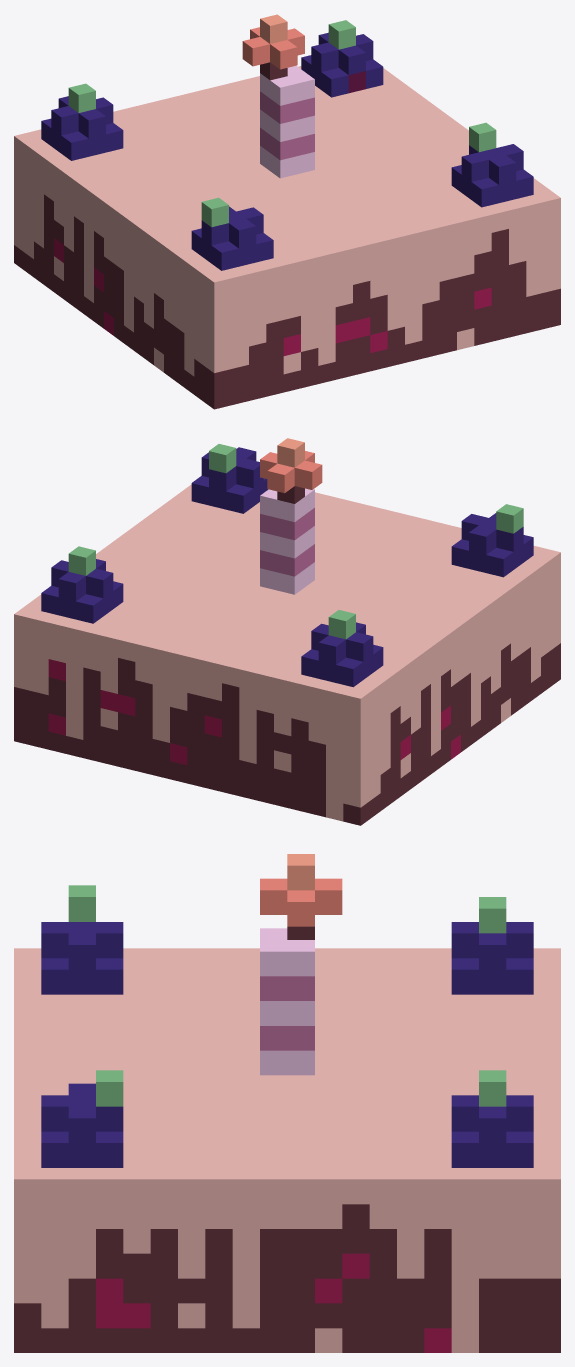
File: cake.glb
The picture shows the model from 3 angles, top to bottom: view 1: azimuth 30°, elevation 25°; view 2: azimuth 150°, elevation 25°; view 3: azimuth 270°, elevation 25°; orthographic projection. The views are drawn at different scales.
Visible parts, largest first — view 1: cake1; view 2: cake1; view 3: cake1.
Boxes of the visible parts, <box> form: cake1: <box>14,14,560,409</box>; cake1: <box>14,438,560,825</box>; cake1: <box>14,854,560,1352</box>.
Bounding box in the file's own units: 2 × 1.5 × 2.
1 material, 1 textured.
